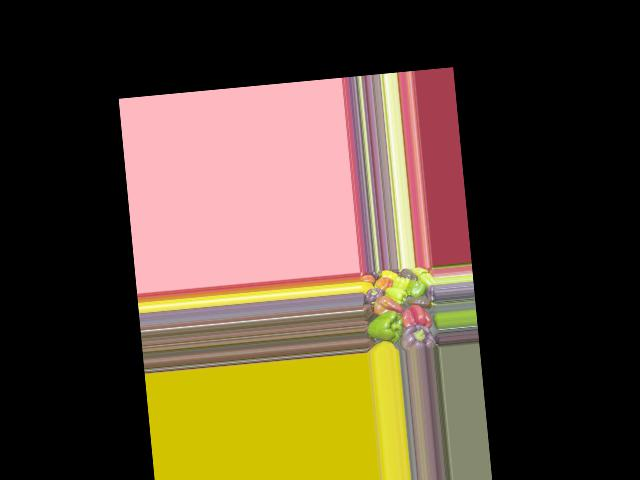bell_pepper: (363, 284, 384, 303)
